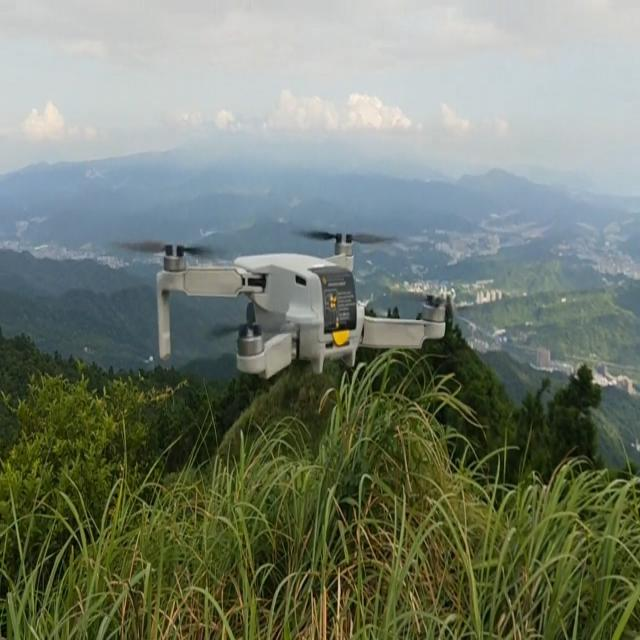Drone: (157, 235, 450, 381)
